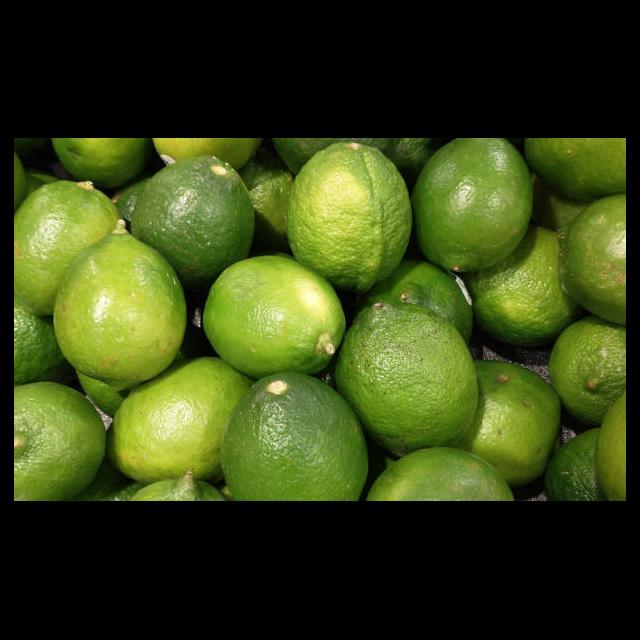lime: (282, 142, 413, 316), (53, 220, 185, 384), (338, 302, 477, 456), (218, 372, 372, 502), (202, 254, 349, 382), (129, 156, 257, 278)
